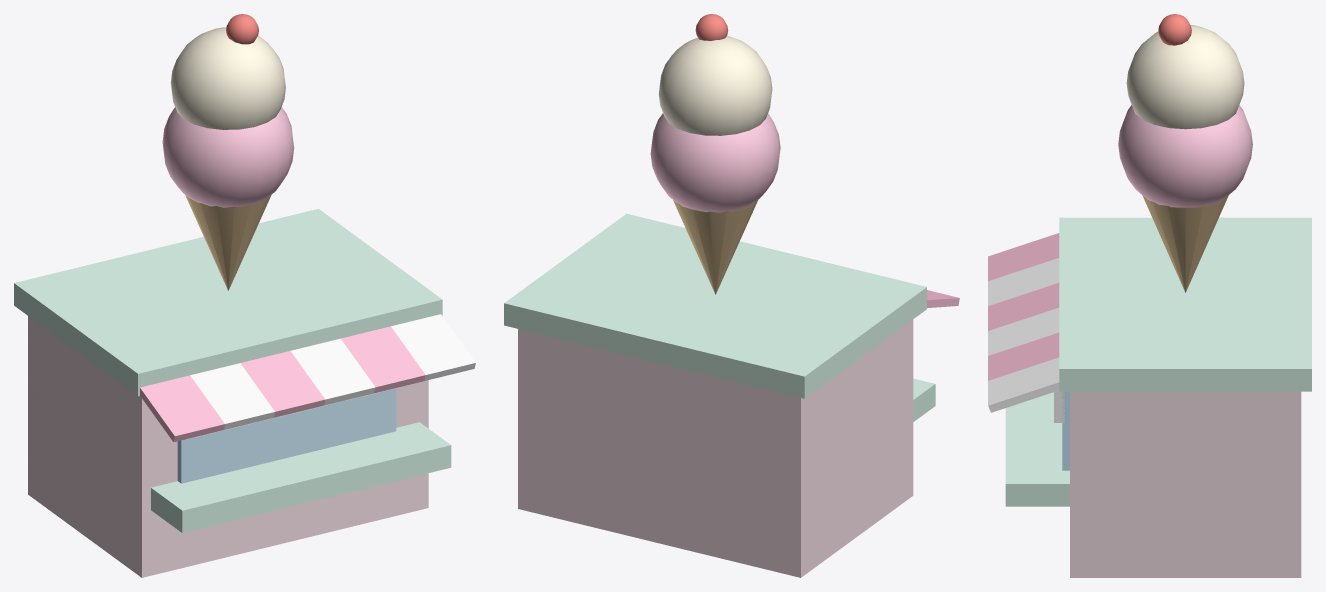
The model's file is kedai_es.glb.
The picture shows the model from 3 angles, left to right: view 1: azimuth 30°, elevation 25°; view 2: azimuth 150°, elevation 25°; view 3: azimuth 270°, elevation 25°; orthographic projection. The views are drawn at different scales.
Visible parts, largest first — view 1: kedai_es; view 2: kedai_es; view 3: kedai_es.
Part boxes in pixels (x1,y1,x2,y2): kedai_es: (14,14,475,577); kedai_es: (504,14,959,577); kedai_es: (988,14,1311,577).
Size of the model in its own units: 1.7 by 2.6 by 1.54.
